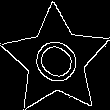O_SE: (24, 28, 88, 92)
